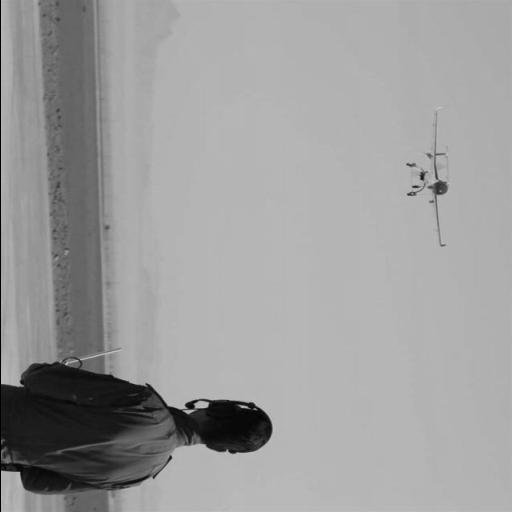uav: (399, 103, 455, 253)
